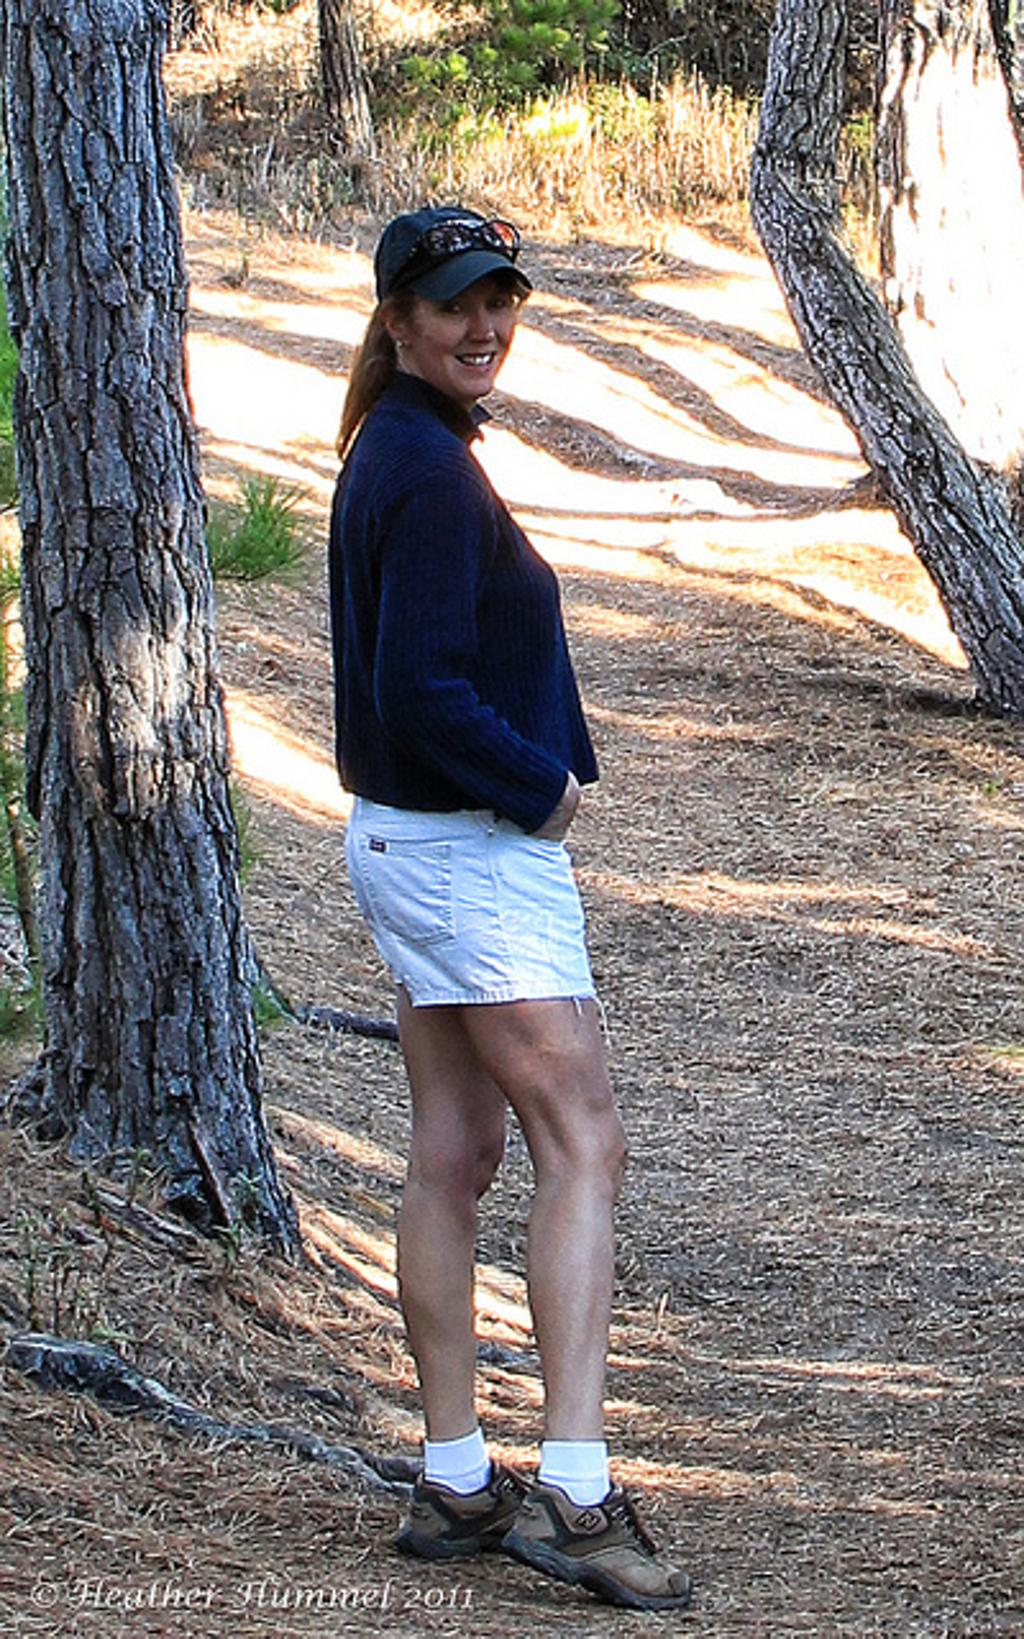face: (422, 269, 515, 397)
